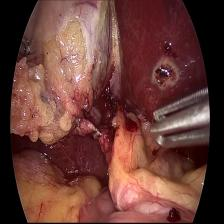Grasper: (145, 85, 209, 154)
